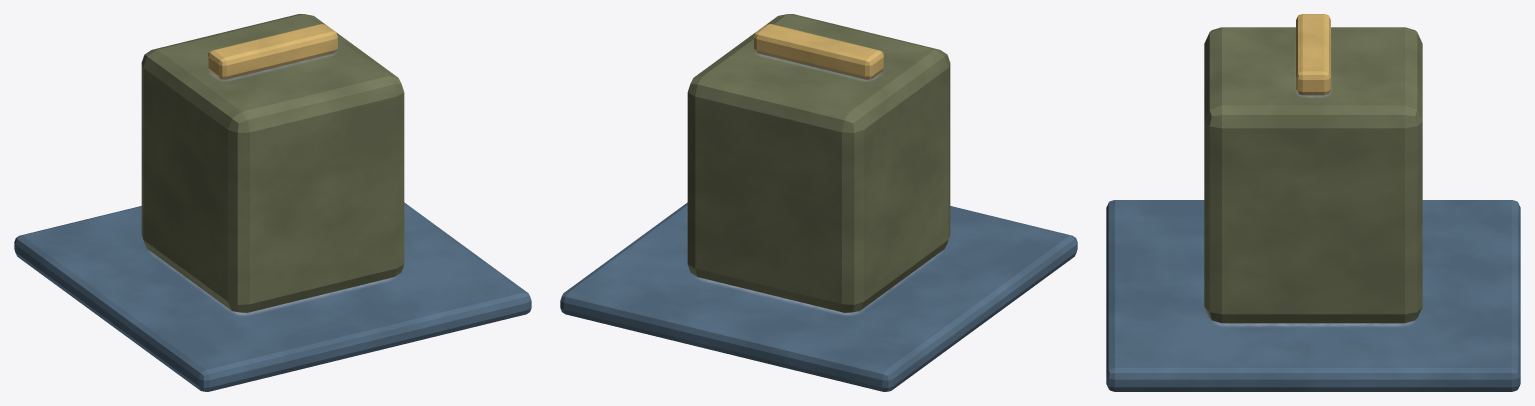
Rendered from com_wall_post.glb.
The picture shows the model from 3 angles, left to right: view 1: azimuth 30°, elevation 25°; view 2: azimuth 150°, elevation 25°; view 3: azimuth 270°, elevation 25°; orthographic projection. The views are drawn at different scales.
Parts seen in each view (by area): view 1: com_wall_post; view 2: com_wall_post; view 3: com_wall_post.
Part boxes in pixels (<box>): com_wall_post: <box>14,14,531,391</box>; com_wall_post: <box>560,14,1077,391</box>; com_wall_post: <box>1106,14,1520,391</box>.
Bounding box in the file's own units: 0.95 × 0.67 × 0.95.
1 material, 1 textured.
